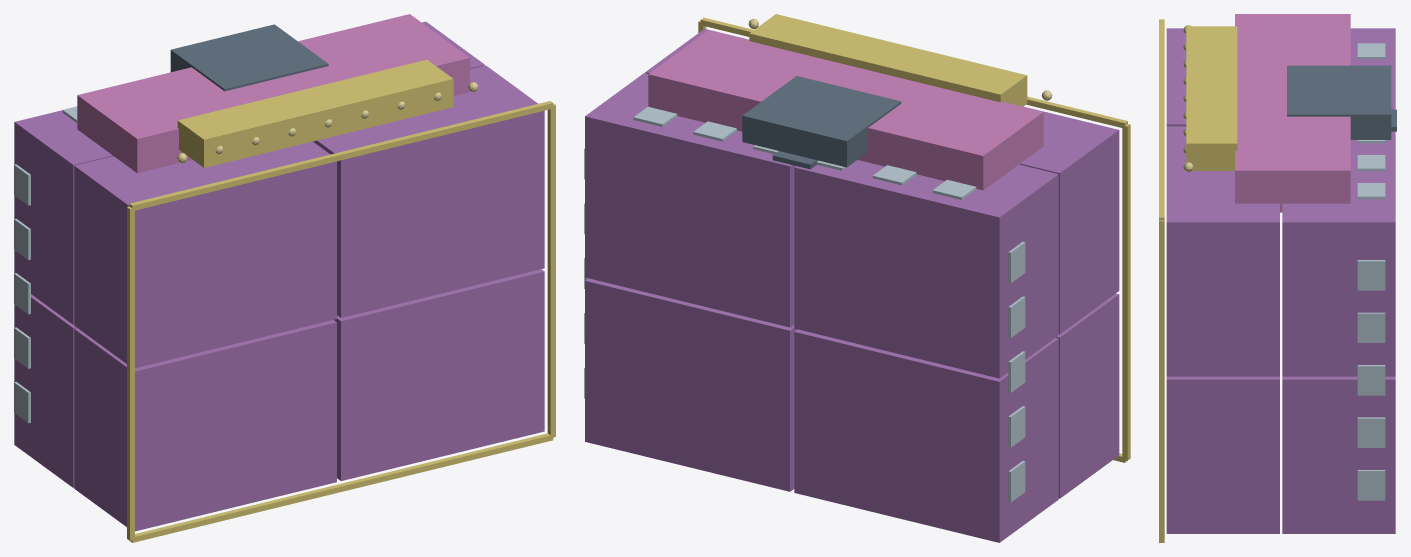
The model's file is building-casino.glb.
The picture shows the model from 3 angles, left to right: view 1: azimuth 30°, elevation 25°; view 2: azimuth 150°, elevation 25°; view 3: azimuth 270°, elevation 25°; orthographic projection. The views are drawn at different scales.
Parts seen in each view (by area): view 1: world; view 2: world; view 3: world.
Part boxes in pixels (box(x1,y1,x2,y2)): world: box(14, 14, 555, 542); world: box(584, 14, 1130, 542); world: box(1159, 14, 1396, 542).
Bounding box in the file's own units: 20.5 × 17.1 × 10.27.
